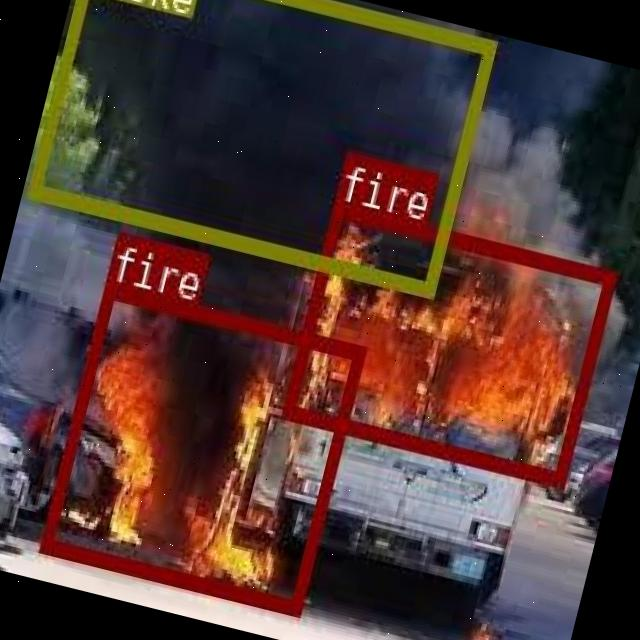fire: (38, 280, 364, 611), (279, 200, 616, 486)
smoke: (26, 0, 494, 293)
